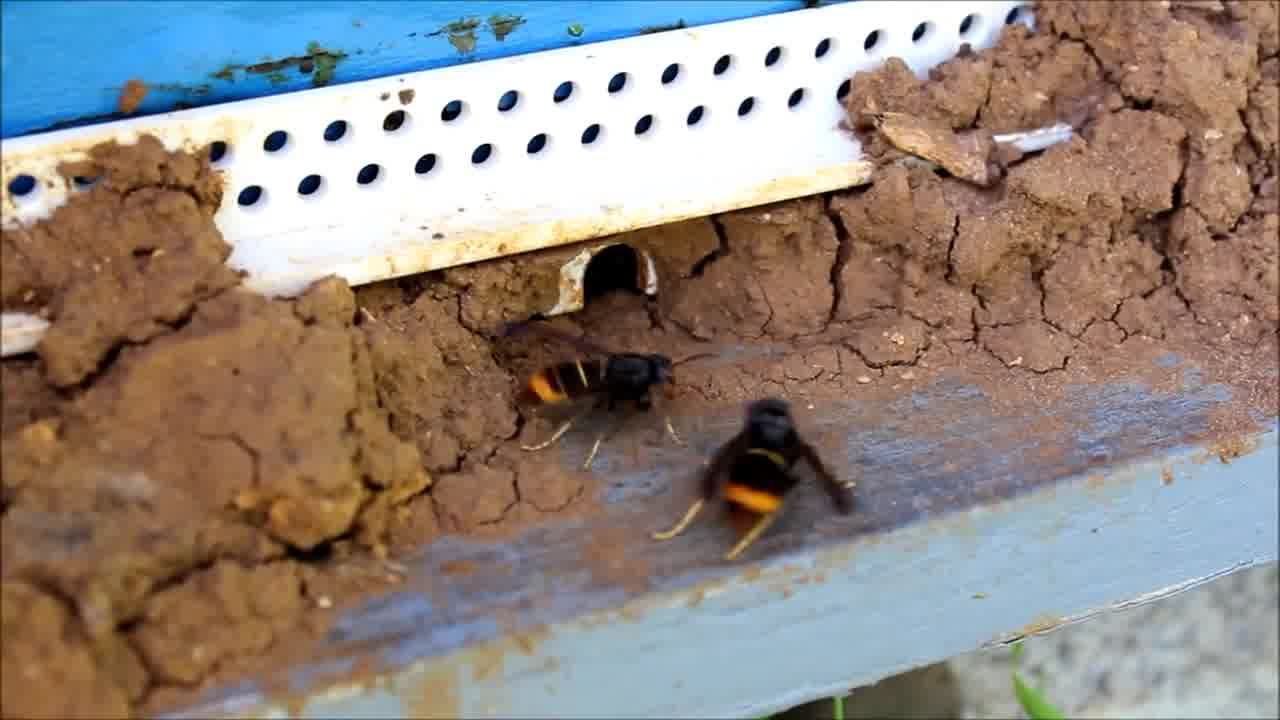hornet: (702, 392, 845, 559), (502, 342, 709, 446)
